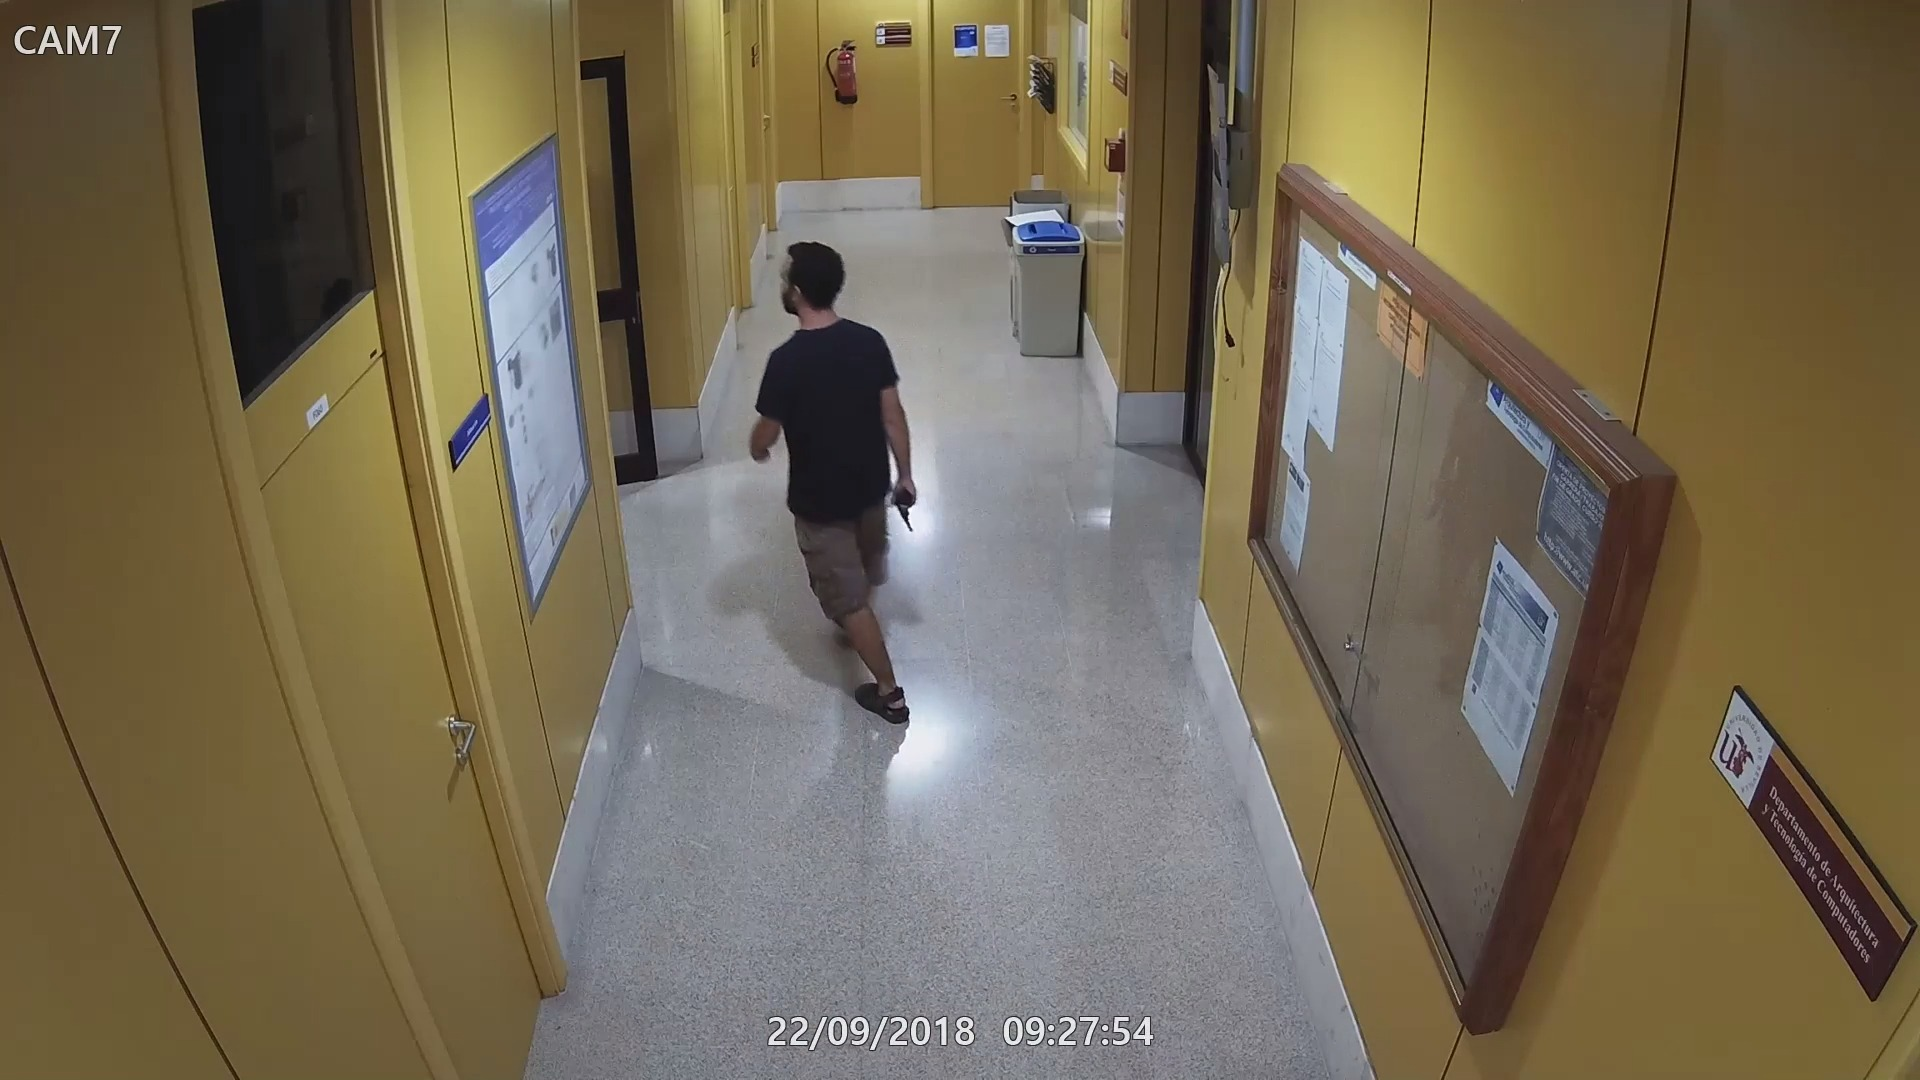Handgun: (887, 487, 923, 535)
